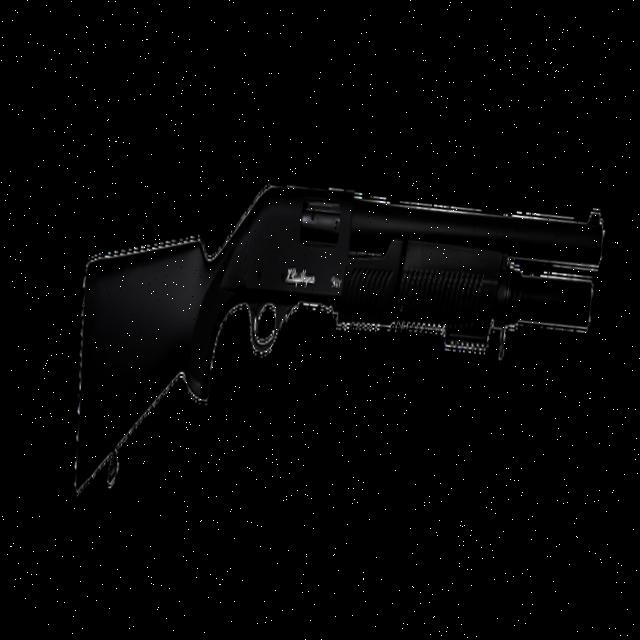firearm: (40, 134, 623, 573)
